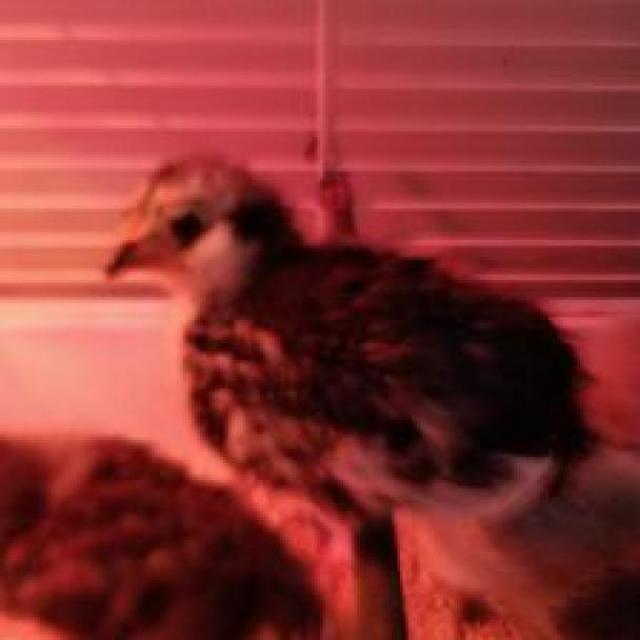Chicken: (89, 126, 627, 542)
